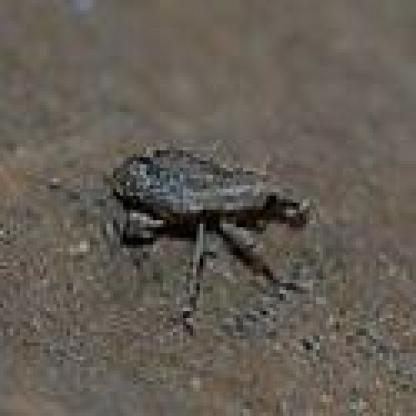rice-bug: (110, 145, 305, 308)
